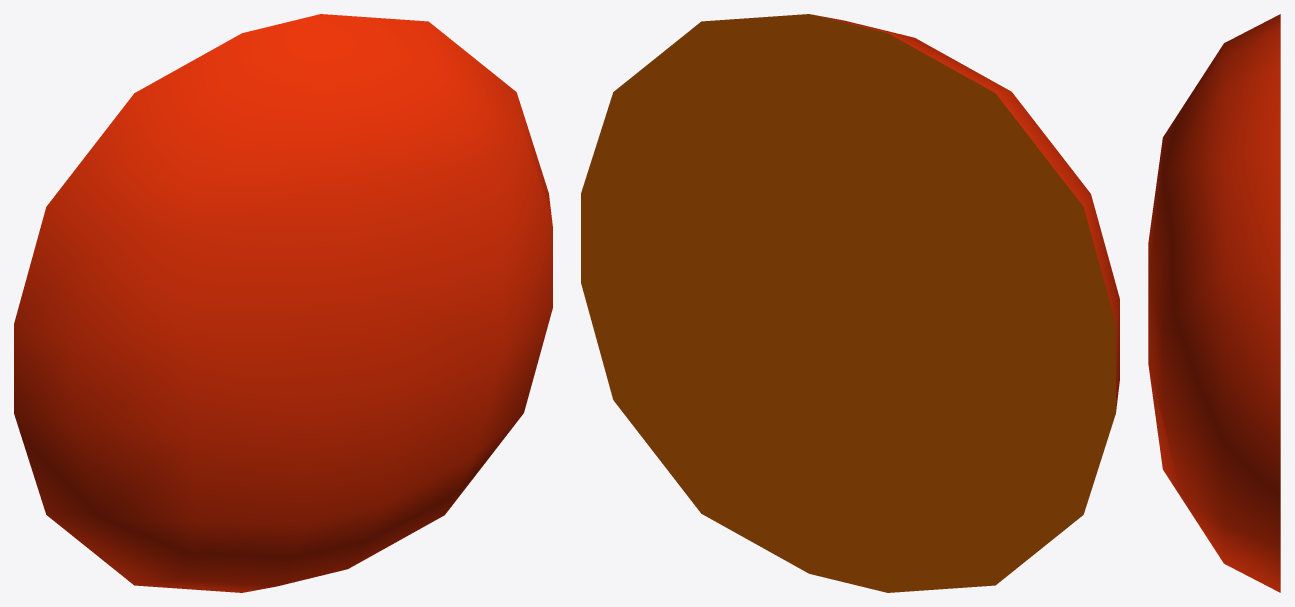
Rendered from mesh_tomato_stage06.fbx.
3 views of the same model, side by side, from view 1: azimuth 30°, elevation 25°; view 2: azimuth 150°, elevation 25°; view 3: azimuth 270°, elevation 25° (orthographic). The views are drawn at different scales.
Parts seen in each view (by area): view 1: mesh_tomato_stage06; view 2: mesh_tomato_stage06; view 3: mesh_tomato_stage06.
Part boxes in pixels (x1,y1,x2,y2): mesh_tomato_stage06: (14,14,552,592); mesh_tomato_stage06: (581,14,1119,592); mesh_tomato_stage06: (1148,14,1280,592).
Size of the model in its own units: 0.1731 by 0.1731 by 0.0407.
